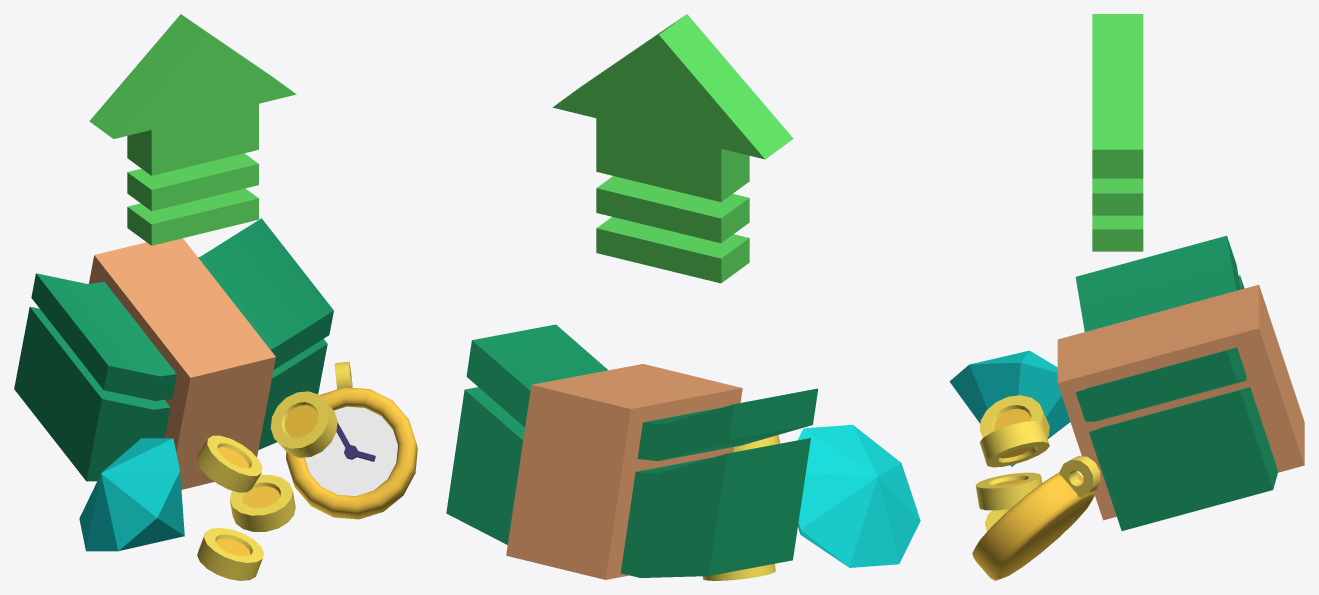
Rendered from Luxury.fbx.
3 renders of one model, left to right at view 1: azimuth 30°, elevation 25°; view 2: azimuth 150°, elevation 25°; view 3: azimuth 270°, elevation 25°, orthographic. The views are drawn at different scales.
Parts seen in each view (by area): view 1: Luxury, Luxury.002; view 2: Luxury, Luxury.002; view 3: Luxury, Luxury.002.
Boxes of the visible parts, bbox=[...] form: Luxury: bbox=[14, 218, 417, 580]; Luxury.002: bbox=[89, 14, 296, 245]; Luxury: bbox=[446, 324, 920, 580]; Luxury.002: bbox=[552, 14, 793, 283]; Luxury: bbox=[949, 235, 1304, 580]; Luxury.002: bbox=[1092, 14, 1143, 251].
Size of the model in its own units: 403 by 609 by 365.
